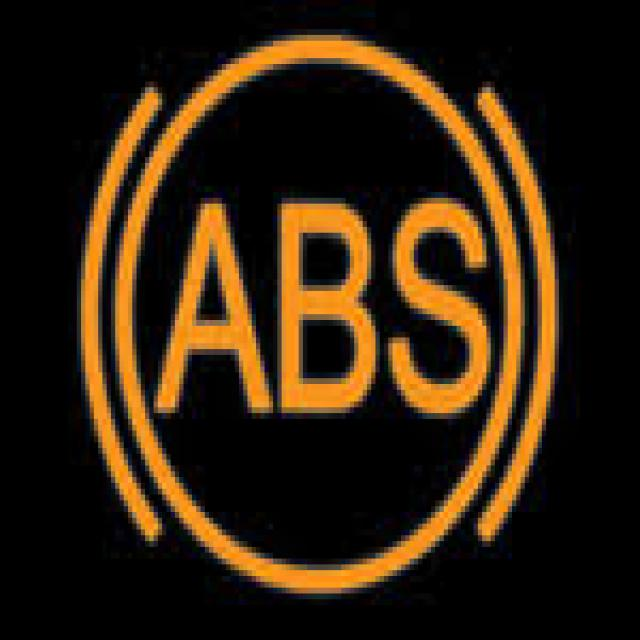kontrolka: (66, 22, 590, 613)
